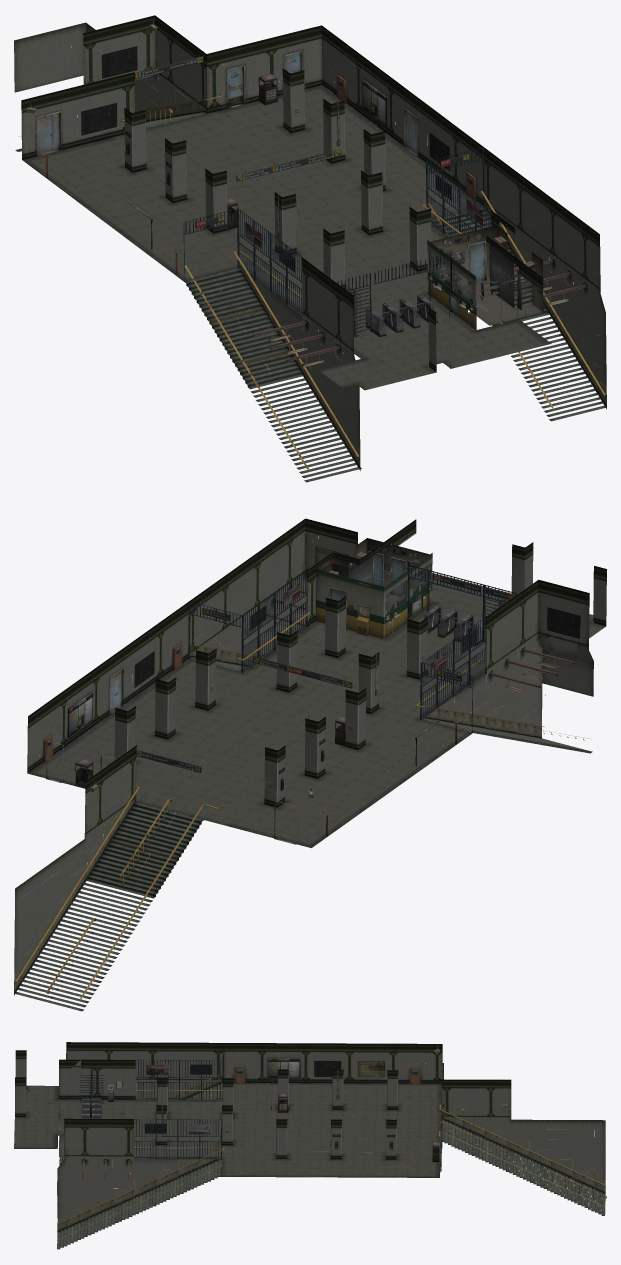
The model's file is env-station.glb.
3 renders of one model, top to bottom at view 1: azimuth 30°, elevation 25°; view 2: azimuth 150°, elevation 25°; view 3: azimuth 270°, elevation 25°, orthographic. The views are drawn at different scales.
Visible parts, largest first — view 1: FrontSide_8, FrontSide_11, FrontSide_6, FrontSide_7, FrontSide_0, FrontSide_10, FrontSide_4, FrontSide_5, FrontSide_2, FrontSide_1, FrontSide_9; view 2: FrontSide_8, FrontSide_11, FrontSide_6, FrontSide_7, FrontSide_0, FrontSide_1, FrontSide_5, FrontSide_4, FrontSide_10, FrontSide_2, FrontSide_9; view 3: FrontSide_11, FrontSide_8, FrontSide_6, FrontSide_0, FrontSide_7, FrontSide_4, FrontSide_5, FrontSide_2, FrontSide_9.
Boxes of the visible parts, x1,y1,x2,y2 form: FrontSide_8: [22, 75, 551, 390]; FrontSide_11: [21, 15, 600, 427]; FrontSide_6: [15, 87, 606, 482]; FrontSide_7: [127, 51, 586, 362]; FrontSide_0: [14, 22, 606, 448]; FrontSide_10: [429, 225, 543, 325]; FrontSide_4: [77, 41, 482, 272]; FrontSide_5: [124, 56, 469, 314]; FrontSide_2: [26, 19, 568, 366]; FrontSide_1: [427, 240, 540, 329]; FrontSide_9: [124, 73, 345, 229]; FrontSide_8: [27, 573, 605, 847]; FrontSide_11: [22, 518, 606, 953]; FrontSide_6: [14, 612, 592, 1011]; FrontSide_7: [46, 565, 574, 782]; FrontSide_0: [14, 519, 593, 973]; FrontSide_1: [316, 551, 432, 638]; FrontSide_5: [136, 573, 515, 806]; FrontSide_4: [132, 542, 583, 770]; FrontSide_10: [322, 538, 430, 631]; FrontSide_2: [43, 587, 559, 844]; FrontSide_9: [75, 715, 345, 790]; FrontSide_11: [15, 1042, 594, 1208]; FrontSide_8: [14, 1083, 441, 1177]; FrontSide_6: [57, 1072, 606, 1249]; FrontSide_0: [57, 1053, 605, 1218]; FrontSide_7: [79, 1043, 444, 1178]; FrontSide_4: [64, 1058, 387, 1159]; FrontSide_5: [91, 1056, 444, 1159]; FrontSide_2: [82, 1046, 509, 1178]; FrontSide_9: [278, 1093, 439, 1161].
Size of what is drawn, in the model's own units: 20.12 by 11.08 by 51.15.
Materials: 12 (12 with a texture image).
